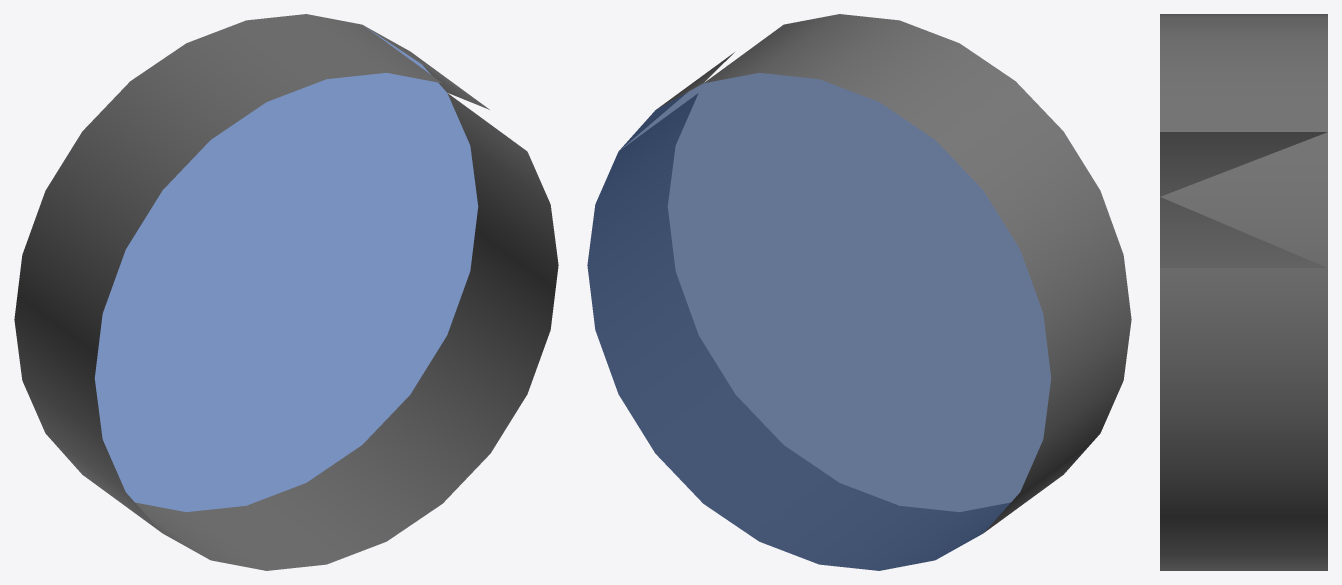
3 views of the same model, side by side, from view 1: azimuth 30°, elevation 25°; view 2: azimuth 150°, elevation 25°; view 3: azimuth 270°, elevation 25° (orthographic). The views are drawn at different scales.
Size of the model in its own units: 0.0515 by 0.0515 by 0.0154.
